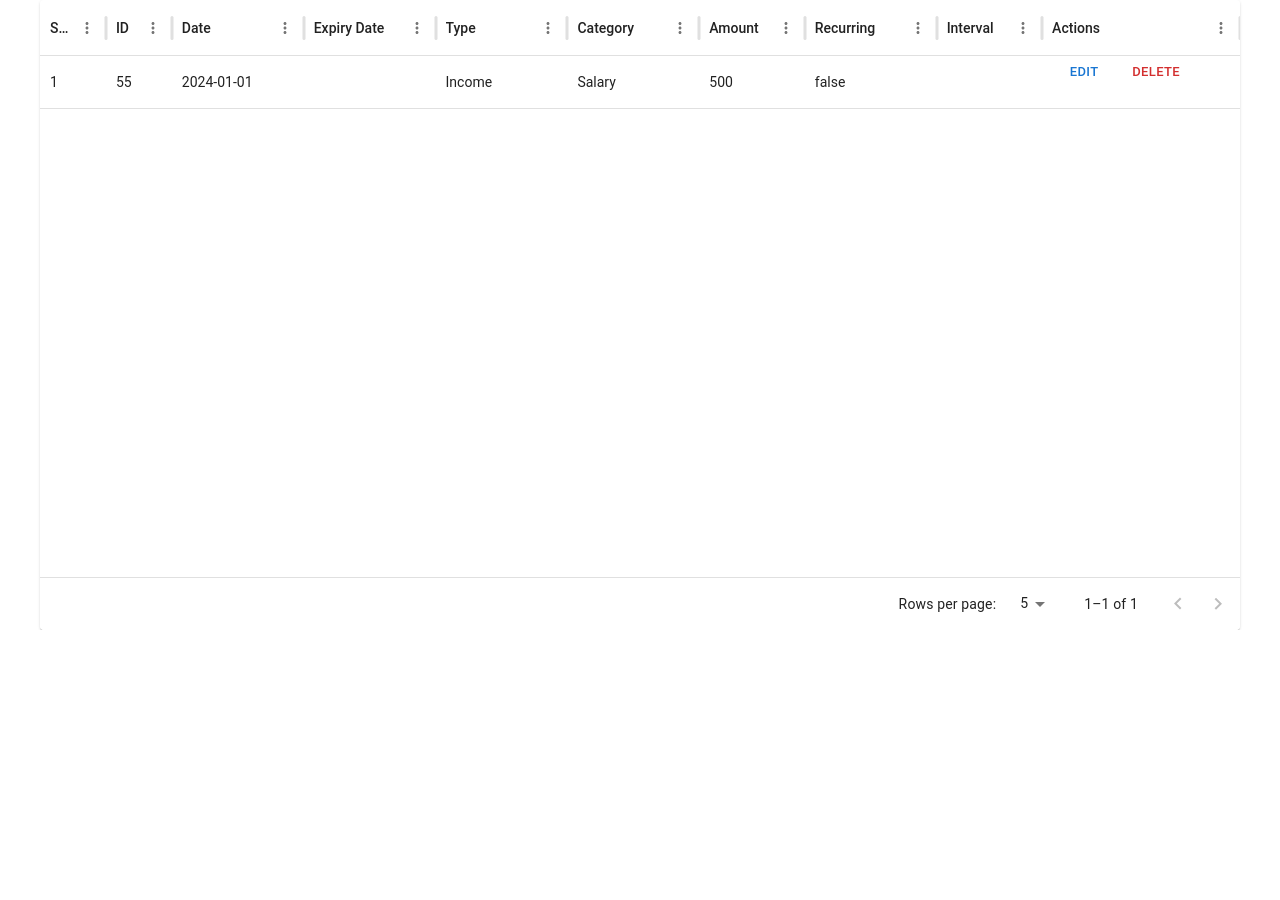
Test case: PaginationTable › edit button opens TransactionForm
Click the button "Edit" at (1084, 72), box left=1052, top=57, right=1116, bottom=88
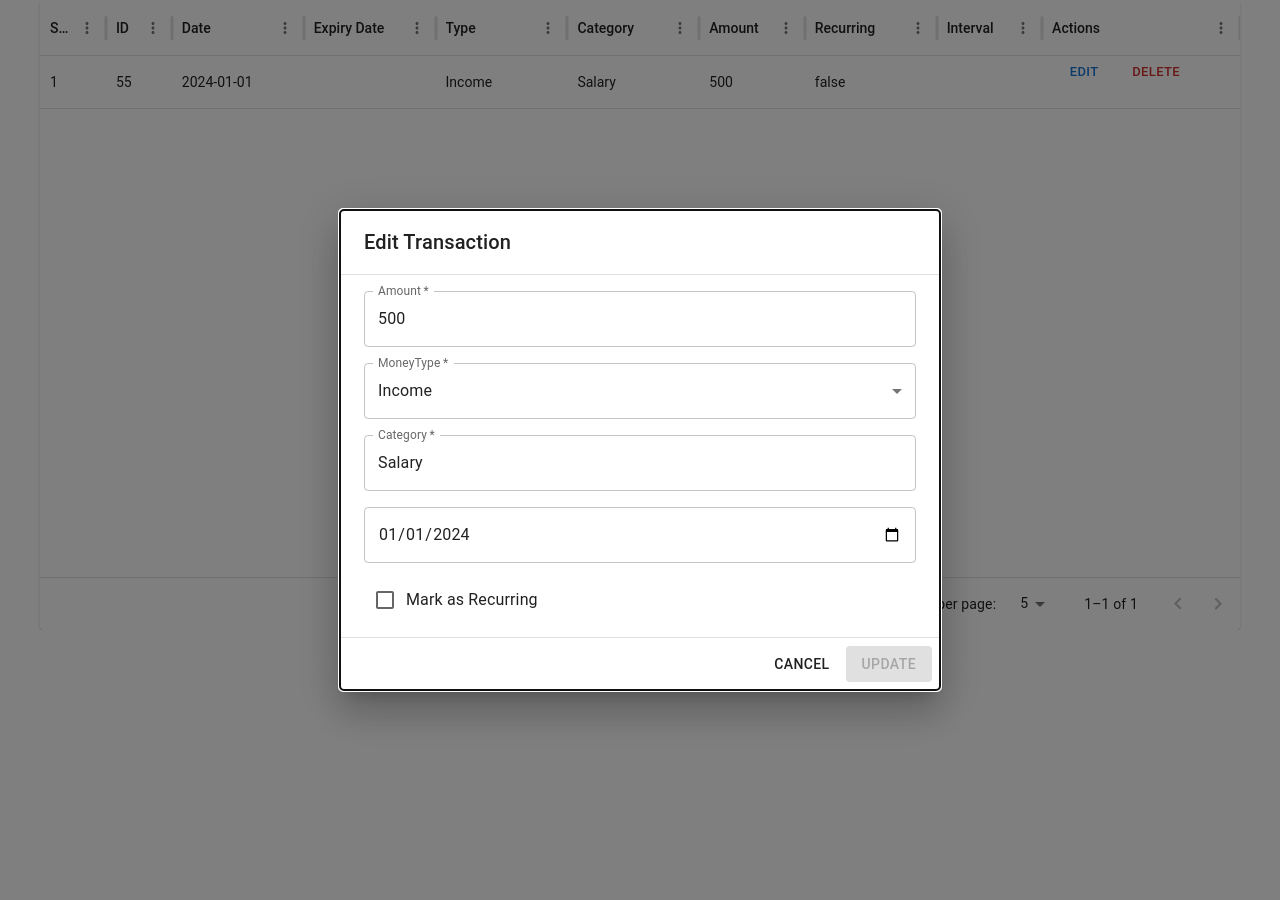
Expected: the heading "Edit Transaction" is shown, left=364, top=230, right=511, bottom=254
